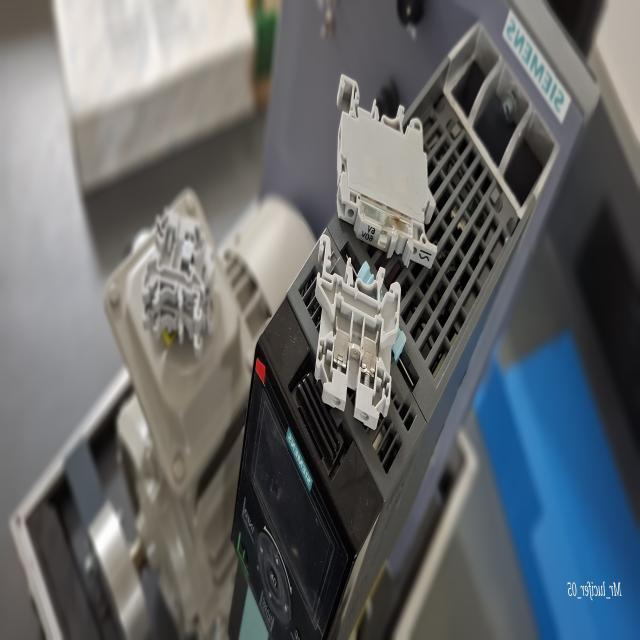Pass: (308, 227, 407, 436)
Reject: (140, 201, 214, 355)
